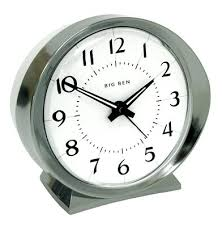alarm_clock: (10, 13, 210, 213)
